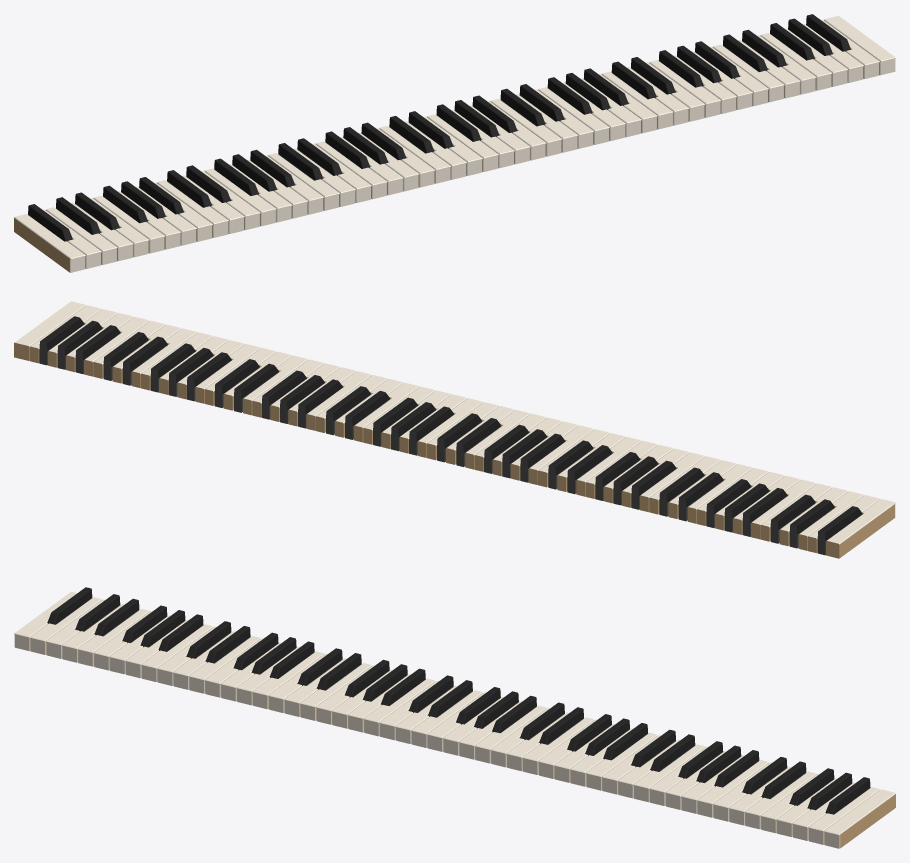
File: Piano-Low-Polygon.fbx
3 views of the same model, one above another, from view 1: azimuth 30°, elevation 25°; view 2: azimuth 150°, elevation 25°; view 3: azimuth 330°, elevation 25° (orthographic).
Visible parts, largest first — view 1: Skinny_Key_2_1, Black_Key33, Black_Key7, Black_Key29, Black_Key21, Black_Key57, Black_Key23, Black_Key41, Black_Key67, Black_Key3, Black_Key45, Black_Key51 (+26 smaller); view 2: Skinny_Key_2_1, Black_Key51, Black_Key67, Black_Key55, Black_Key57, Black_Key65, Black_Key41, Black_Key49, Black_Key3, Black_Key7, Black_Key23, Black_Key33 (+25 smaller); view 3: Skinny_Key_1_2, Black_Key34, Black_Key24, Black_Key4, Black_Key8, Black_Key22, Black_Key46, Black_Key58, Black_Key56, Black_Key68, Black_Key66, Black_Key30 (+26 smaller).
Boxes of the visible parts, box(x1,y1,x2,y2) form: Skinny_Key_2_1: box(14, 215, 57, 259); Black_Key33: box(389, 116, 430, 153); Black_Key7: box(186, 166, 227, 202); Black_Key29: box(408, 111, 449, 148); Black_Key21: box(297, 139, 338, 175); Black_Key57: box(742, 30, 783, 67); Black_Key23: box(278, 143, 319, 180); Black_Key41: box(519, 84, 560, 121); Black_Key67: box(75, 193, 116, 230); Black_Key3: box(167, 170, 208, 207); Black_Key45: box(500, 89, 541, 126); Black_Key51: box(611, 62, 652, 99); Skinny_Key_2_1: box(832, 514, 877, 558); Black_Key51: box(237, 364, 278, 412); Black_Key67: box(774, 495, 815, 543); Black_Key55: box(126, 337, 167, 385); Black_Key57: box(107, 332, 148, 380); Black_Key65: box(793, 500, 834, 548); Black_Key41: box(329, 387, 370, 435); Black_Key49: box(218, 359, 259, 407); Black_Key3: box(682, 473, 723, 521); Black_Key7: box(663, 468, 704, 516); Black_Key23: box(571, 445, 612, 494); Black_Key33: box(460, 418, 501, 466); Skinny_Key_1_2: box(850, 791, 895, 835); Black_Key34: box(412, 676, 453, 712); Black_Key24: box(301, 649, 342, 685); Black_Key4: box(190, 622, 231, 658); Black_Key8: box(209, 626, 250, 663); Black_Key22: box(320, 653, 361, 690); Black_Key46: box(523, 703, 564, 740); Black_Key58: box(765, 762, 806, 799); Black_Key56: box(746, 757, 787, 794); Black_Key68: box(98, 599, 139, 636); Black_Key66: box(79, 594, 120, 631); Black_Key30: box(431, 680, 472, 717).
Size of the model in its own units: 47.1 by 1.25 by 5.62.
